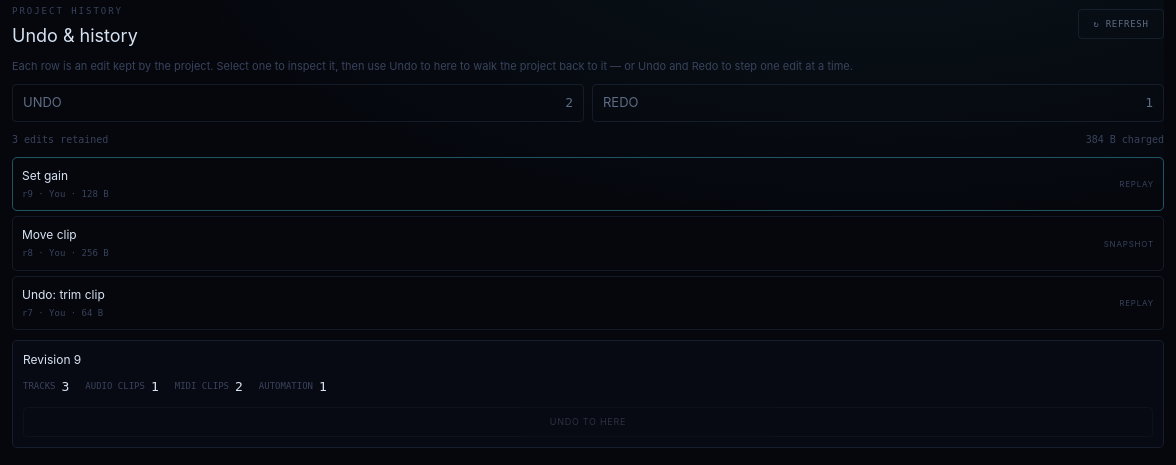
Scenario: HistoryPanel › enables Undo to here for a selected revision on the undo path
The width and height of the screenshot is (1176, 465).
Click the option "Move clip r8 · You · 256 B SNAPSHOT".
click(49, 235)  # box [12, 216, 1164, 271]
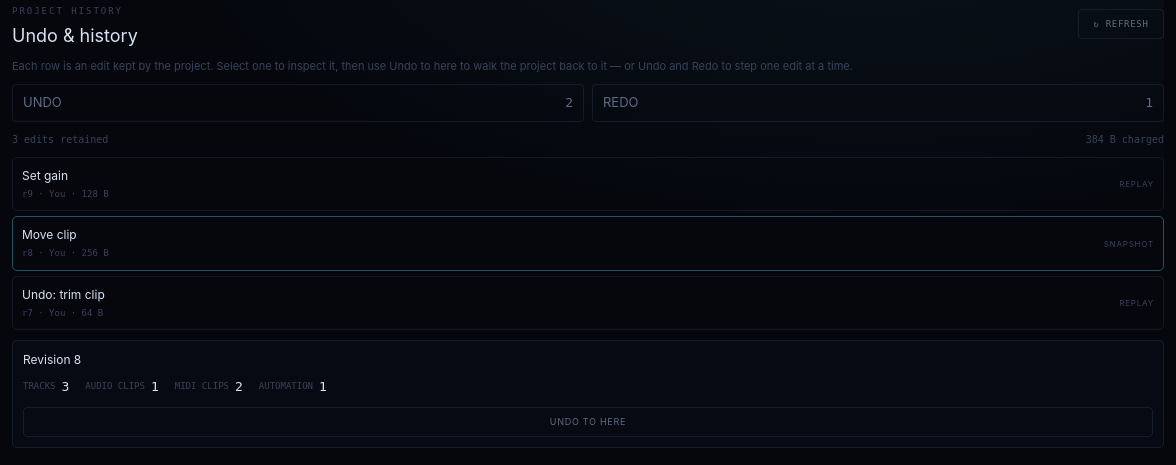
Expected: the button "UNDO TO HERE" is enabled, [23, 407, 1153, 437]
